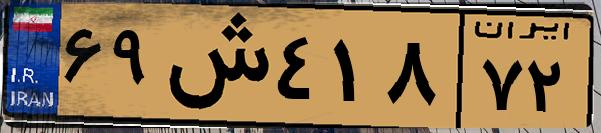1: (330, 28, 385, 110)
2: (525, 38, 570, 115)
4: (270, 28, 330, 110)
6: (57, 26, 110, 100)
7: (475, 38, 525, 113)
8: (385, 28, 445, 110)
9: (110, 28, 158, 98)
ش: (158, 12, 270, 120)
